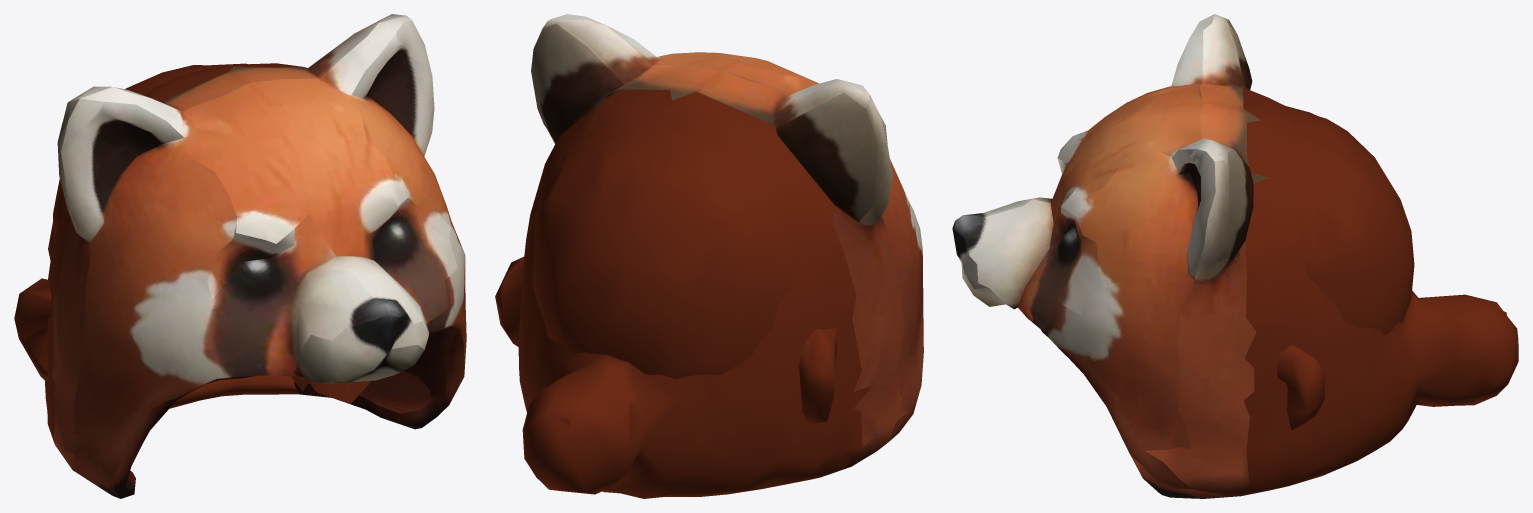
File: red-panda.glb
3 renders of one model, left to right at view 1: azimuth 30°, elevation 25°; view 2: azimuth 150°, elevation 25°; view 3: azimuth 270°, elevation 25°, orthographic. The views are drawn at different scales.
Visible parts, largest first — view 1: geometry_0, HoodAnatomicalLining; view 2: geometry_0, HoodAnatomicalLining; view 3: geometry_0, HoodAnatomicalLining.
Boxes of the visible parts, box(x1,y1,x2,y2) form: geometry_0: box(45, 14, 466, 498); HoodAnatomicalLining: box(14, 63, 370, 403); geometry_0: box(518, 14, 923, 498); HoodAnatomicalLining: box(495, 123, 837, 423); geometry_0: box(952, 14, 1518, 498); HoodAnatomicalLining: box(1248, 106, 1414, 430).
Size of the model in its own units: 0.4814 by 0.4926 by 0.7112.
Materials: 2 (1 with a texture image).
